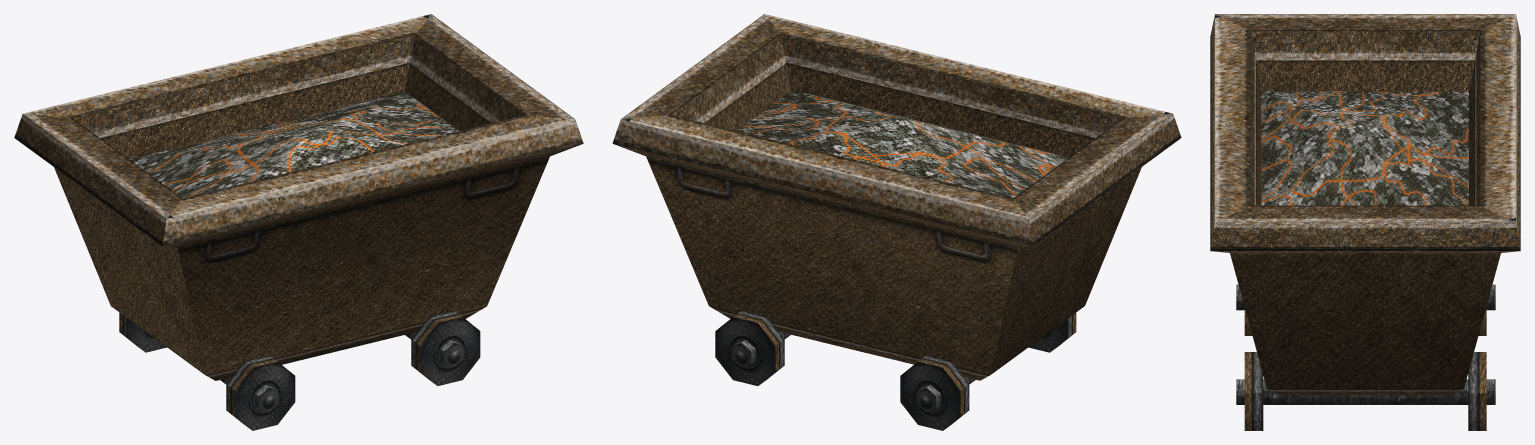
Rendered from mm9_deco_minecart.glb.
3 views of the same model, side by side, from view 1: azimuth 30°, elevation 25°; view 2: azimuth 150°, elevation 25°; view 3: azimuth 270°, elevation 25° (orthographic). The views are drawn at different scales.
Visible parts, largest first — view 1: Minecart; view 2: Minecart; view 3: Minecart.
Part boxes in pixels (<box>): Minecart: <box>14,14,583,430</box>; Minecart: <box>612,14,1181,430</box>; Minecart: <box>1210,14,1520,430</box>.
Bounding box in the file's own units: 2.17 × 1.22 × 1.33.
3 materials, 3 textured.
